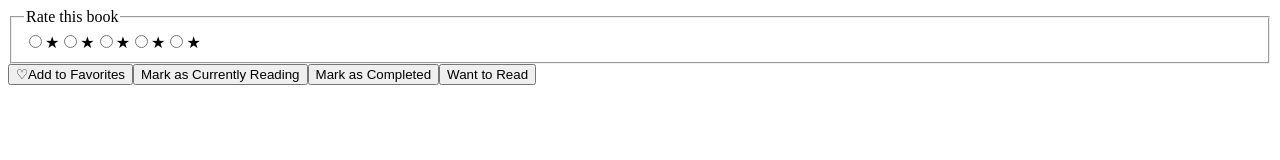
Test: clicking Want to Read saves the book to the shelf
Click the button "Want to Read" at (488, 74), box [439,64,536,85]
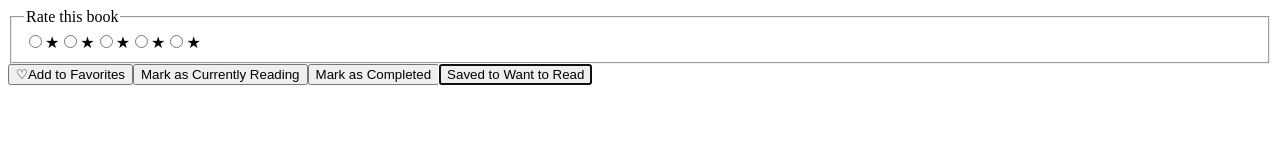
Expected: the button "Saved to Want to Read" is shown, [439,64,592,85]
